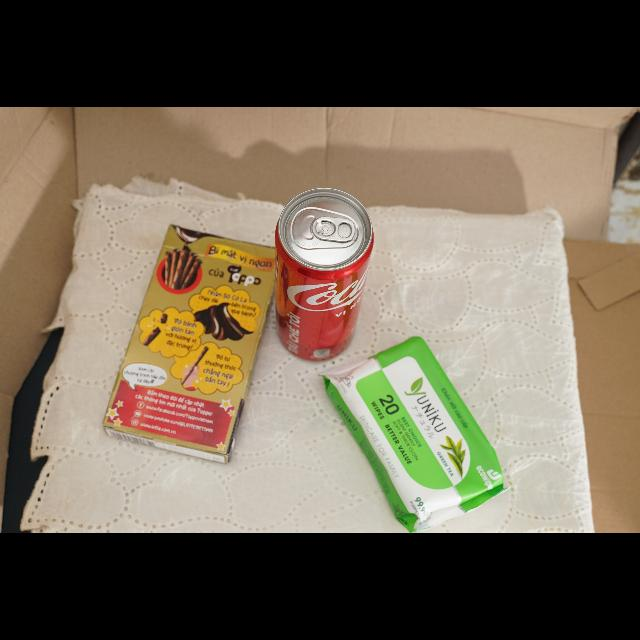banh_toppo_socola: (103, 226, 274, 463)
coca_cola: (275, 189, 374, 361)
khan_giay: (324, 337, 506, 532)
